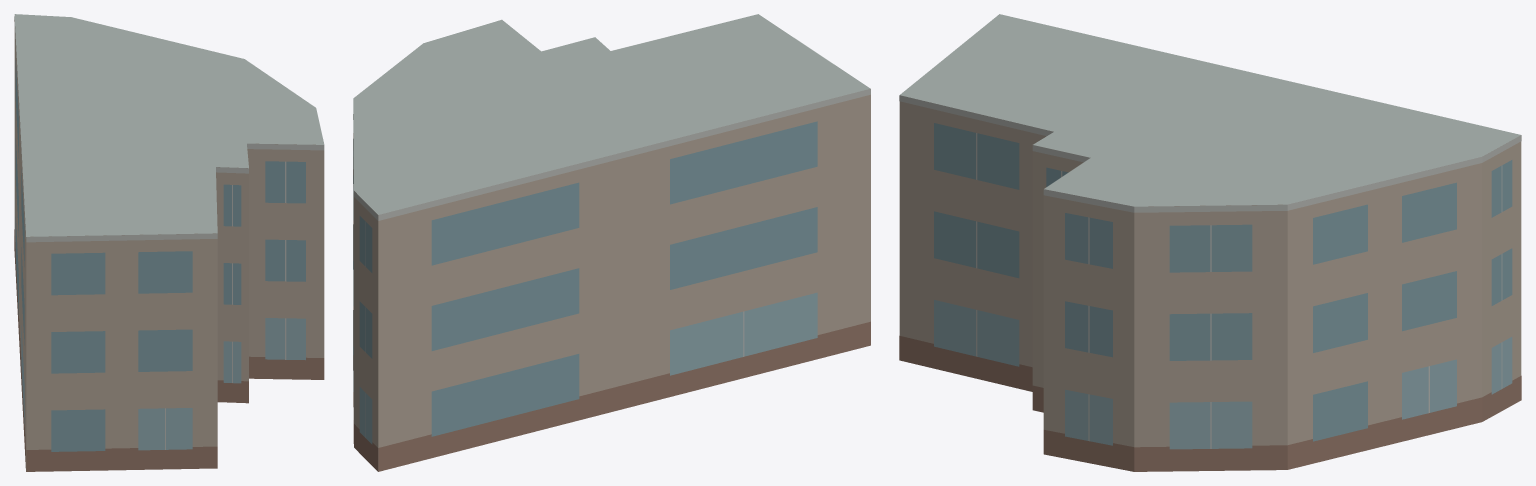
File: survey-upis-32487502.glb
3 renders of one model, left to right at view 1: azimuth 30°, elevation 25°; view 2: azimuth 150°, elevation 25°; view 3: azimuth 270°, elevation 25°, orthographic. The views are drawn at different scales.
Visible parts, largest first — view 1: survey-upis-32487502.tmp; view 2: survey-upis-32487502.tmp; view 3: survey-upis-32487502.tmp.
Part boxes in pixels (left/top/right/bottom): survey-upis-32487502.tmp: left=14, top=14, right=324, bottom=471; survey-upis-32487502.tmp: left=353, top=14, right=870, bottom=471; survey-upis-32487502.tmp: left=899, top=14, right=1521, bottom=471.
Bounding box in the file's own units: 16.36 × 10.5 × 22.32.
